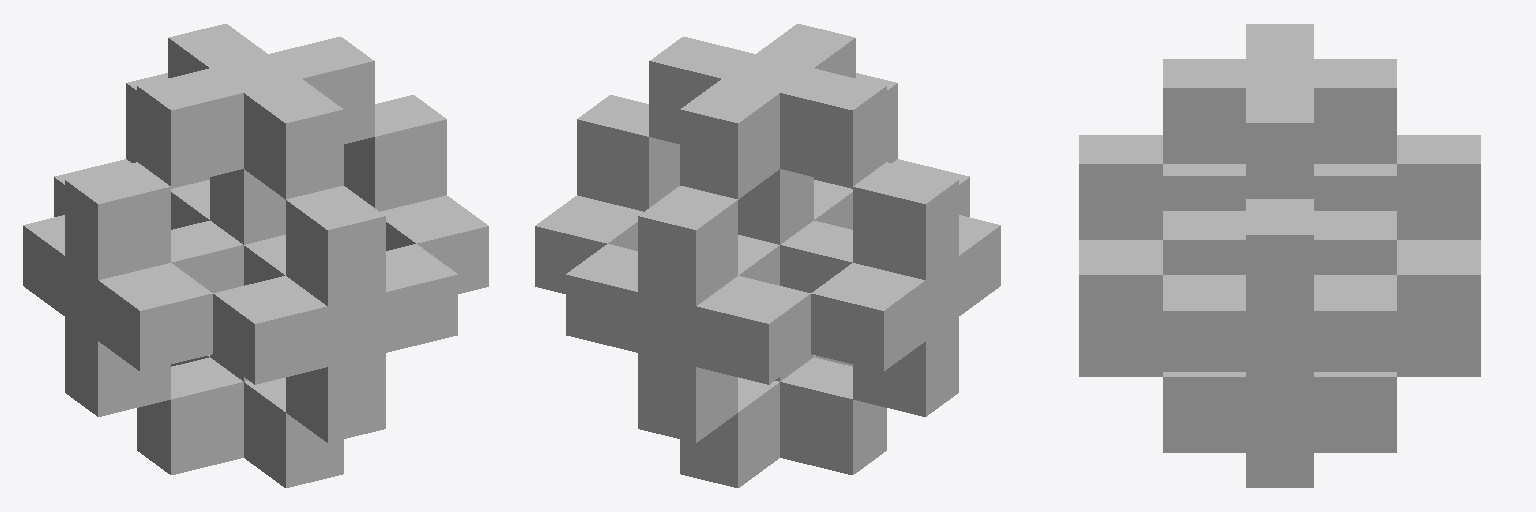
The model's file is static-test-2.obj.
3 renders of one model, left to right at view 1: azimuth 30°, elevation 25°; view 2: azimuth 150°, elevation 25°; view 3: azimuth 270°, elevation 25°, orthographic.
Visible parts, largest first — view 1: Cube; view 2: Cube; view 3: Cube.
Boxes of the visible parts, x1=… form: Cube: x1=23, y1=24, x2=488, y2=487; Cube: x1=535, y1=24, x2=1000, y2=487; Cube: x1=1079, y1=24, x2=1480, y2=487.
Bounding box in the file's own units: 12 × 12 × 12.